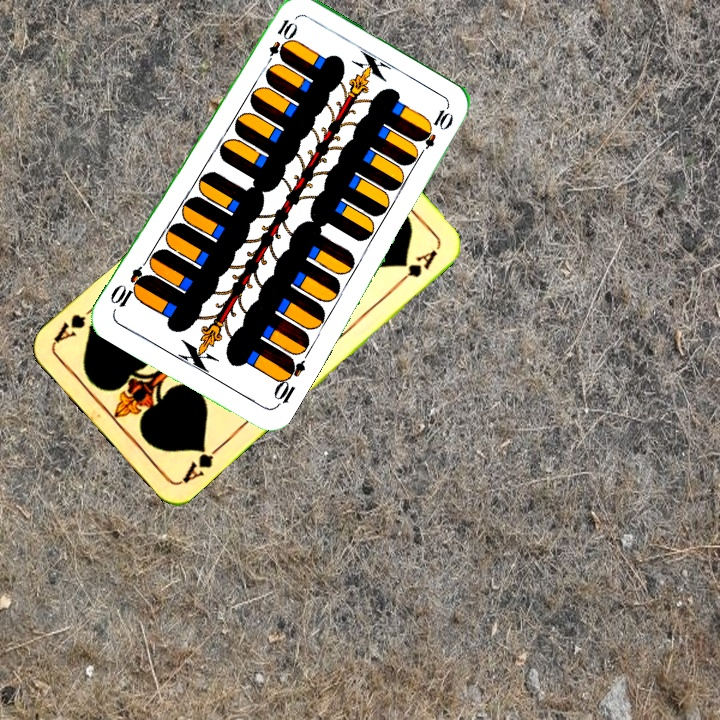E10: (269, 353, 308, 411), (261, 15, 299, 70)
GA: (178, 440, 226, 486)
